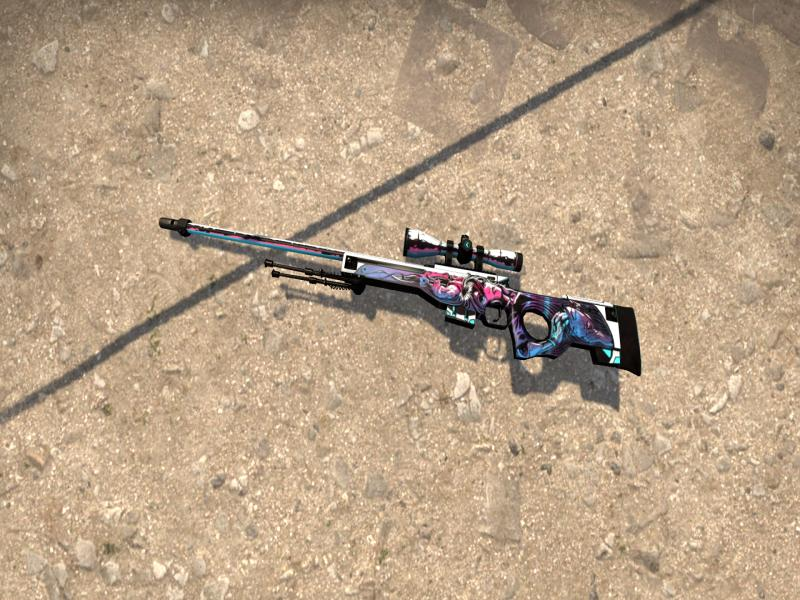AWP: (158, 217, 642, 374)
